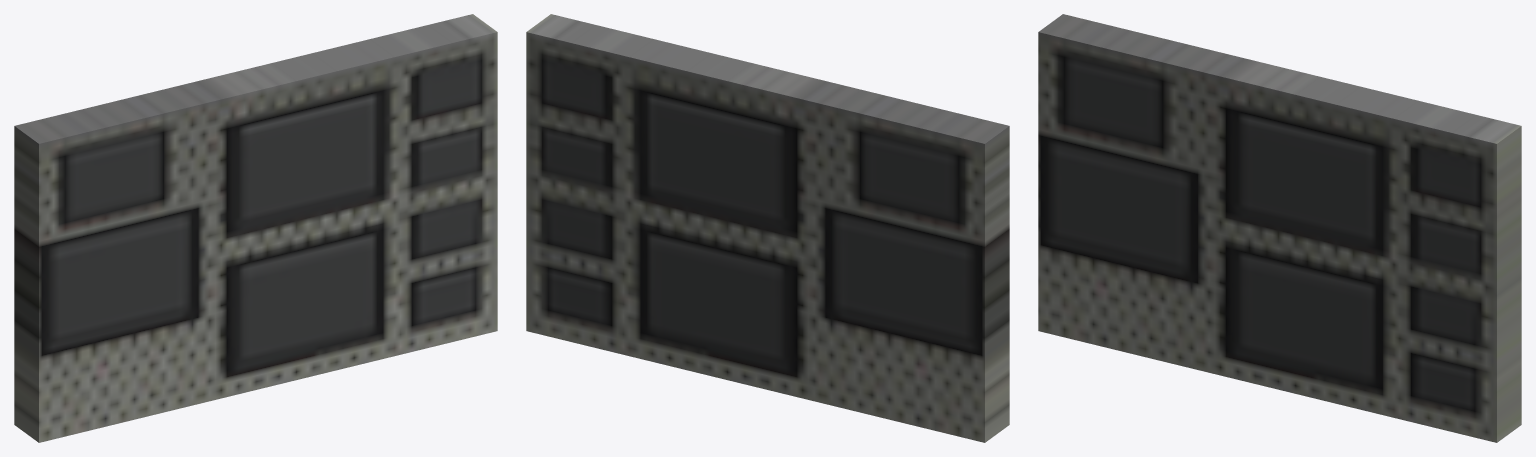
The model's file is LOD_TVs_01.fbx.
The picture shows the model from 3 angles, left to right: view 1: azimuth 30°, elevation 25°; view 2: azimuth 150°, elevation 25°; view 3: azimuth 330°, elevation 25°; orthographic projection.
Parts seen in each view (by area): view 1: LOD_TVs_WithEdge; view 2: LOD_TVs_WithEdge; view 3: LOD_TVs_WithEdge.
Boxes of the visible parts, box(x1,y1,x2,y2) form: LOD_TVs_WithEdge: box(14, 14, 497, 442); LOD_TVs_WithEdge: box(526, 14, 1009, 442); LOD_TVs_WithEdge: box(1038, 14, 1521, 442).
Bounding box in the file's own units: 0.5461 × 0.3402 × 0.051.
